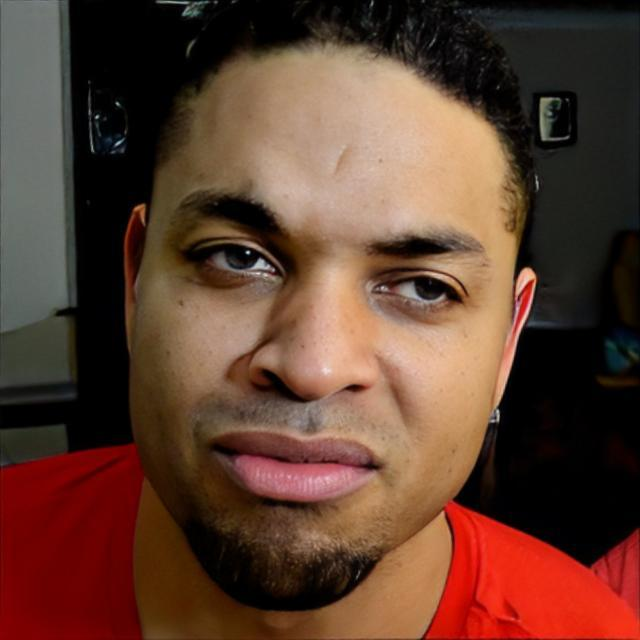disgust: (124, 26, 532, 611)
